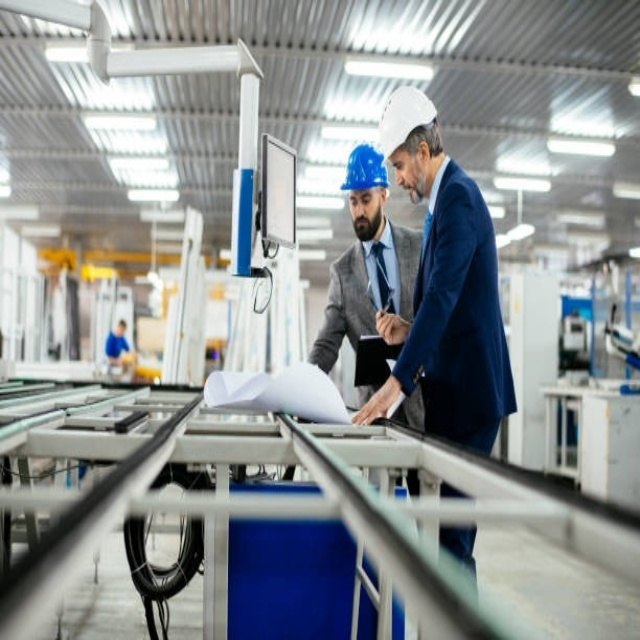Sin_gafas: (350, 190, 374, 210), (392, 157, 414, 176)
Sin_guantes: (352, 376, 399, 430), (373, 307, 409, 344)
Sin_mascara: (398, 177, 419, 202), (353, 212, 373, 234)
